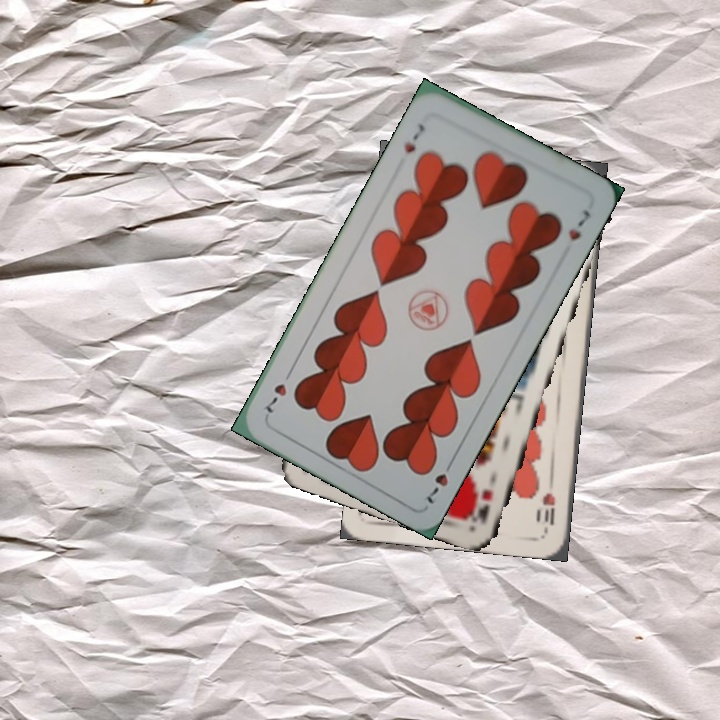H10: (538, 489, 558, 528)
H7: (419, 454, 457, 507), (400, 119, 428, 156)
HK: (466, 485, 496, 528)
